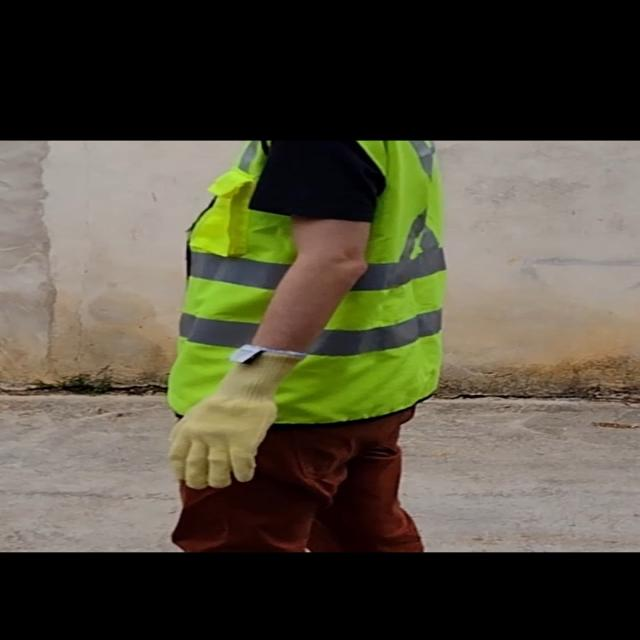glove: (170, 344, 318, 489)
pants: (175, 397, 441, 551)
vest: (172, 137, 447, 425)
